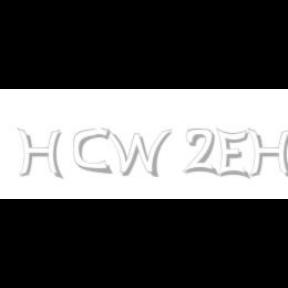2: (182, 128, 216, 176)
C: (74, 128, 110, 174)
E: (216, 128, 250, 180)
H: (17, 128, 63, 180)
W: (100, 128, 172, 178)
